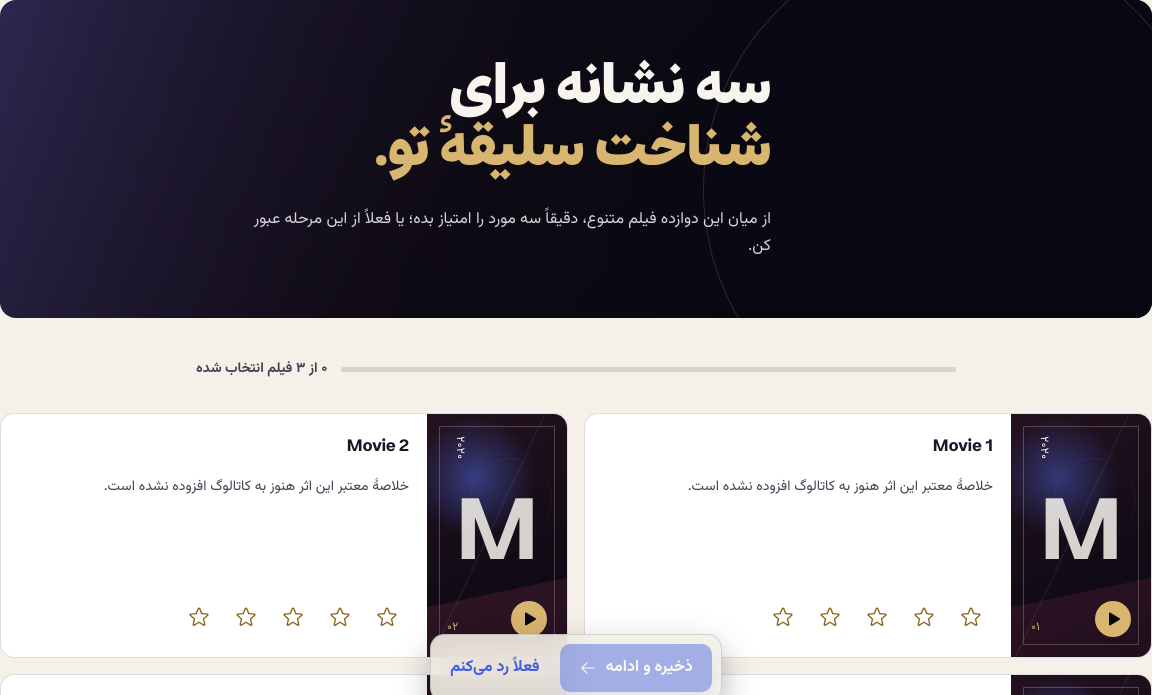
product UI contracts › lets users revise onboarding choices after reaching the limit
Click the button named "5 از ۵ ستاره" below "Movie 1".
click(783, 617)  # box [761, 595, 805, 639]
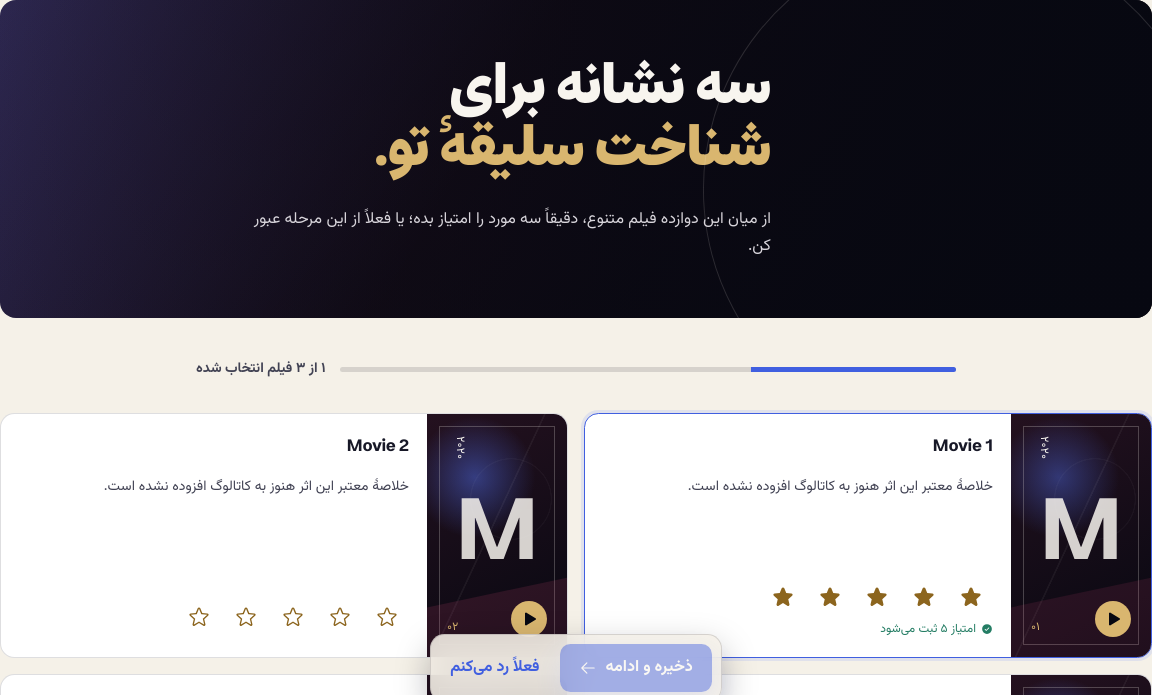
Click the button named "5 از ۵ ستاره" below "Movie 2".
click(199, 617)  # box [177, 595, 221, 639]
(page scrolled)
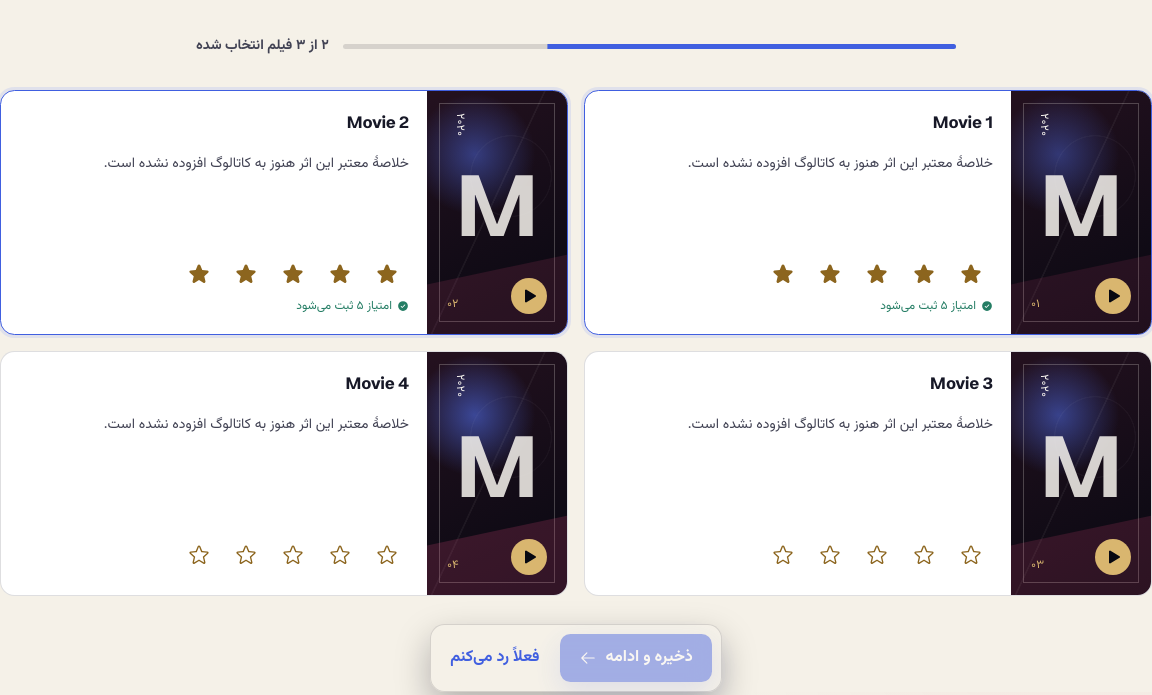
Click the button named "5 از ۵ ستاره" below "Movie 3".
click(783, 555)  # box [761, 533, 805, 577]
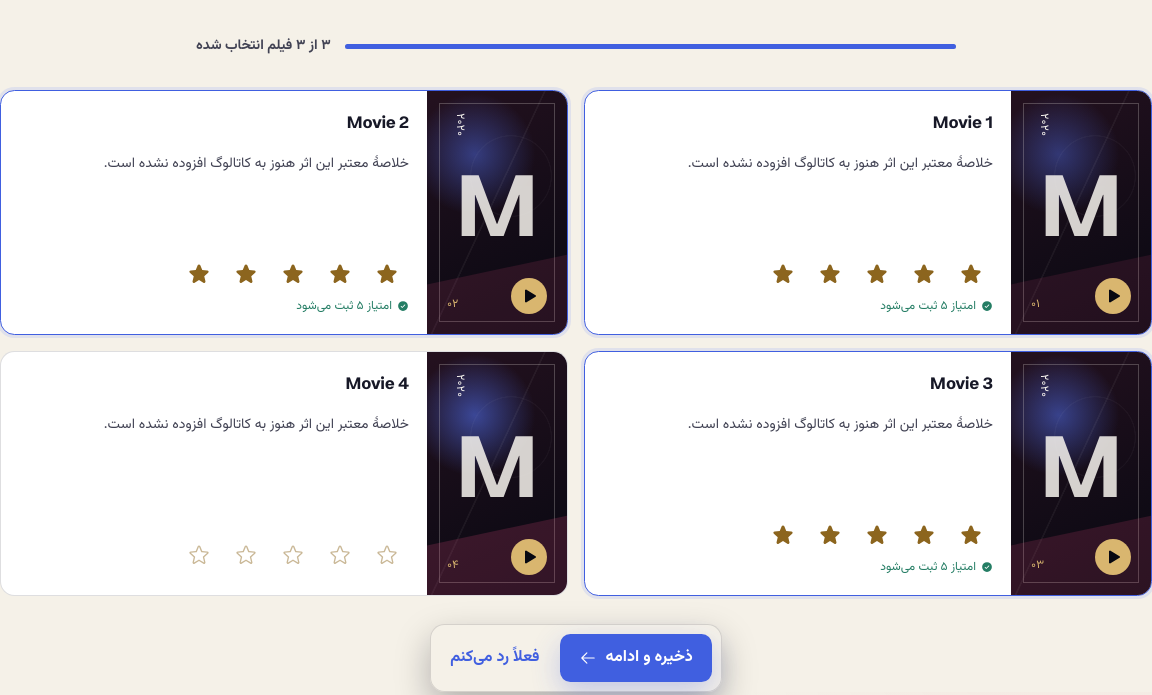
expect the button named "5 از ۵ ستاره" below "Movie 4" is disabled: met, box [177, 533, 221, 577]
Click the button named "5 از ۵ ستاره" below "Movie 1".
click(783, 274)  # box [761, 252, 805, 296]
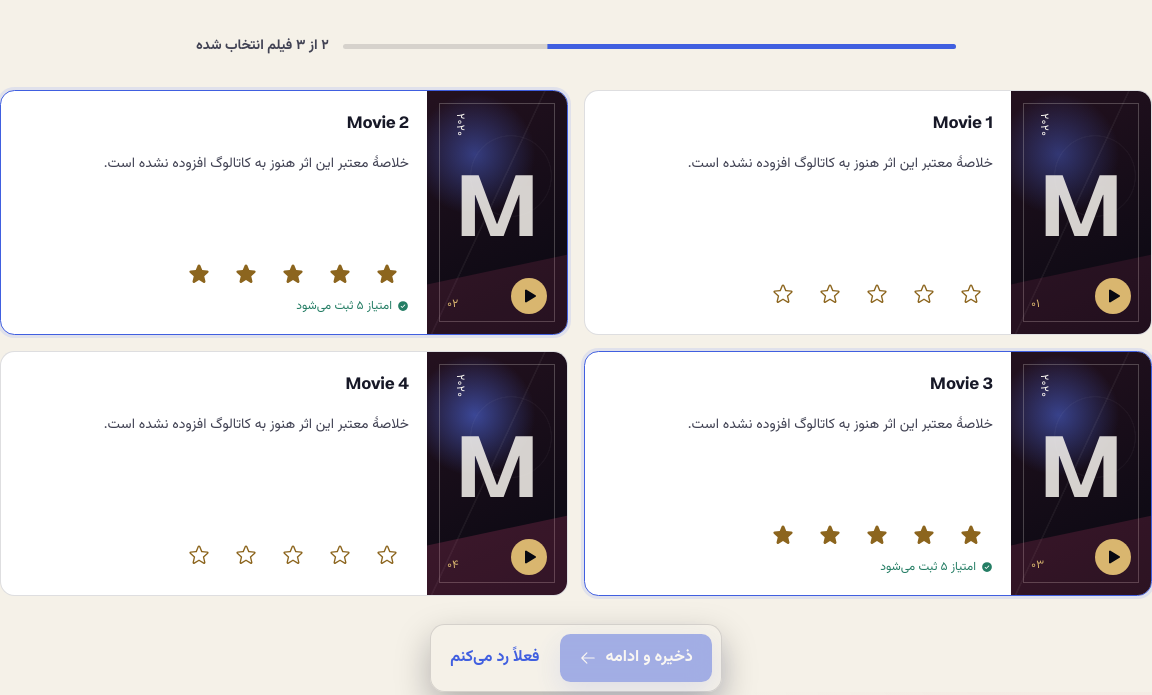
expect the button named "5 از ۵ ستاره" below "Movie 4" is enabled: met, box [177, 533, 221, 577]
